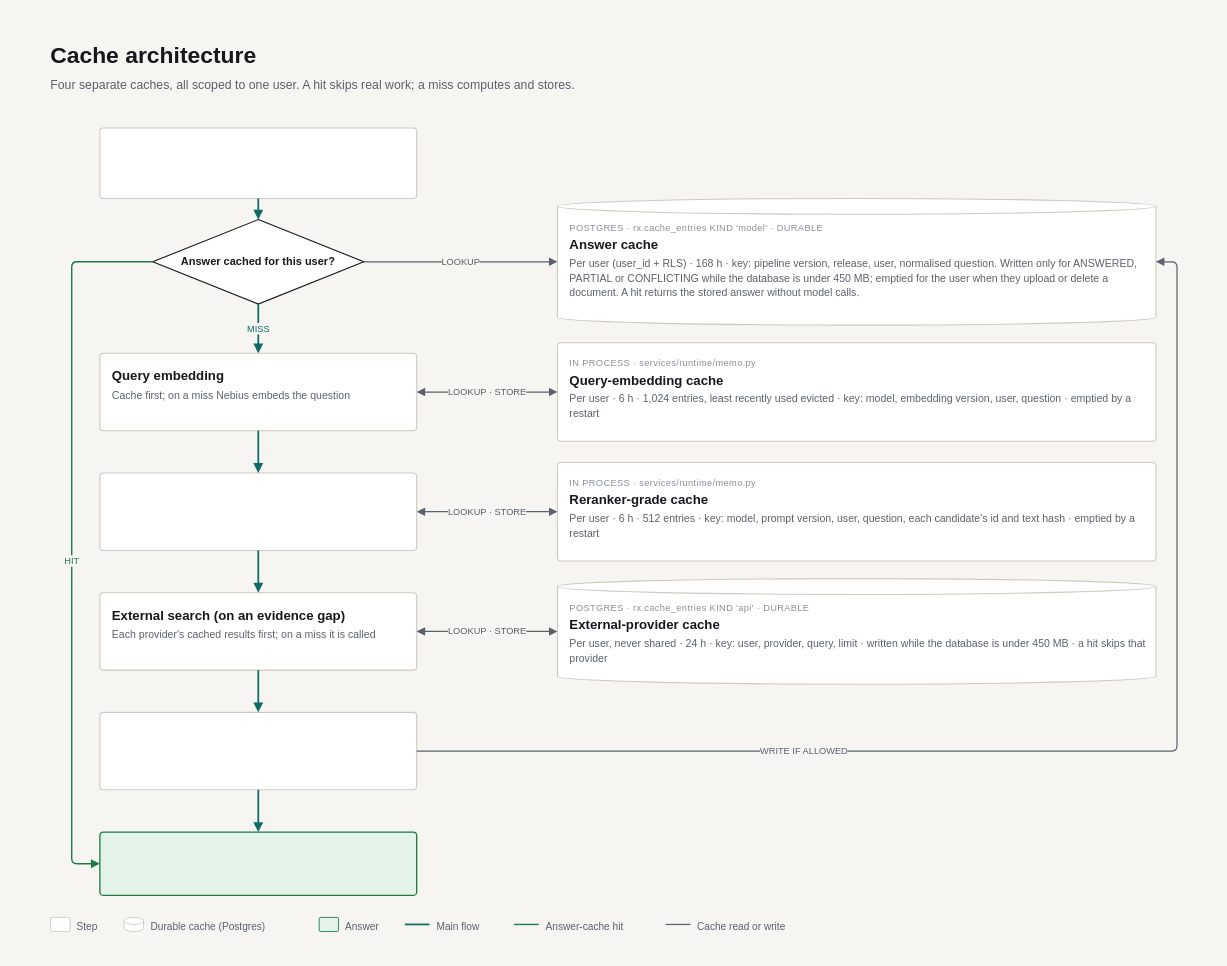
Some shapes in this 1227 by 966 pixel diagram are drawn without their labels. Each missing label, with the centre of its shape:
Answer shown cached: true on a hit (no model or provider calls): the point at 258,863
Rerank Cache first for the exact candidate set; on a miss Nemotron grades it: the point at 258,511
SIGNED-IN USER Question Every cache key includes the user id: the point at 258,163
Synthesis, validation, outcome Never cached: computed from the selected evidence: the point at 258,750
